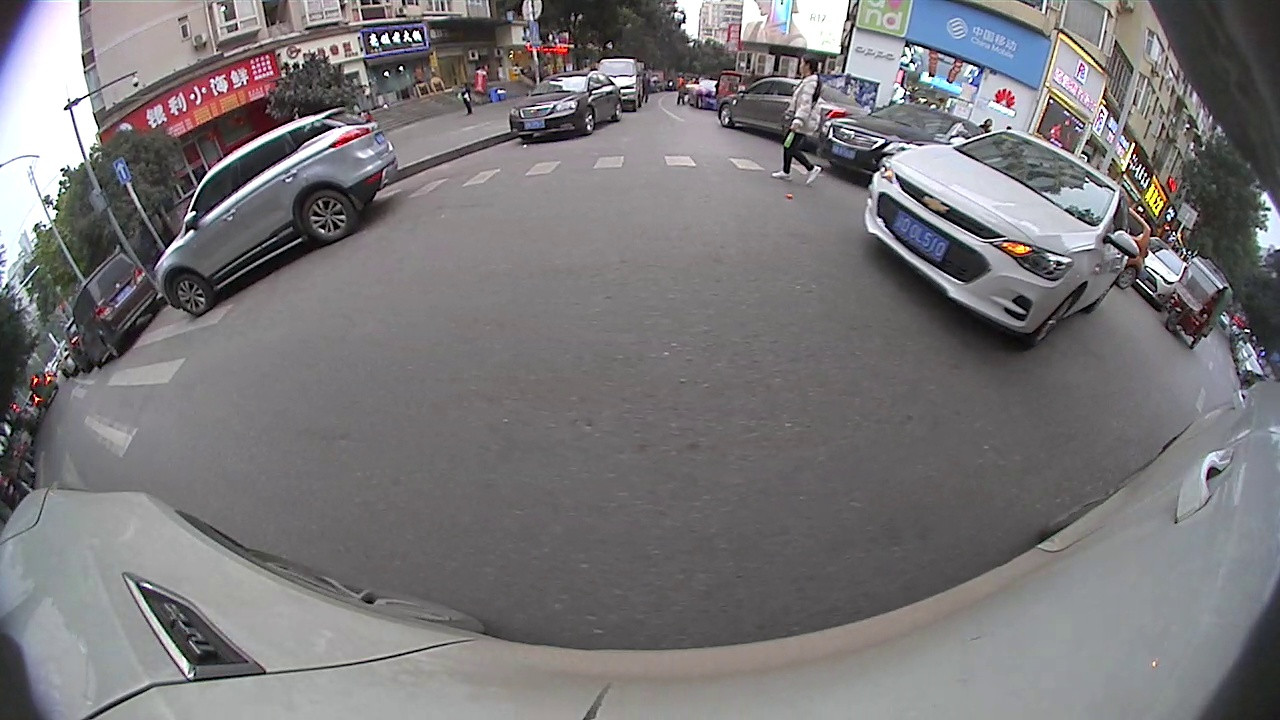car: (858, 124, 1144, 351), (148, 102, 401, 319), (815, 102, 990, 179), (70, 249, 165, 373), (716, 73, 867, 140), (510, 66, 627, 143)
front: (1034, 287, 1082, 346), (169, 276, 217, 321), (579, 111, 602, 133), (717, 104, 738, 128)
person: (792, 52, 827, 183)
rear: (300, 190, 355, 240)
rider: (1161, 253, 1232, 353)
